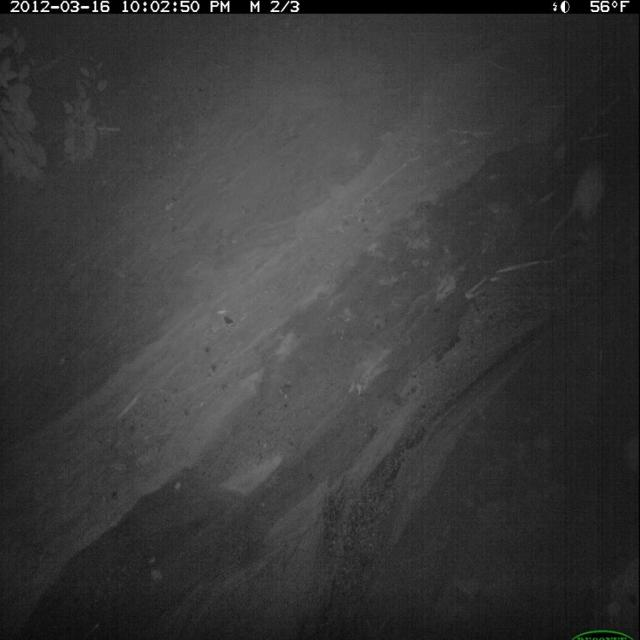opossum: (544, 152, 610, 251)
